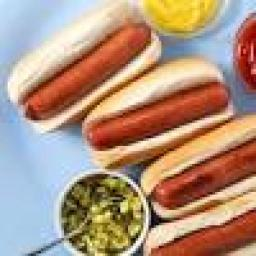hotdog: (6, 1, 162, 136), (79, 52, 236, 168), (139, 109, 256, 214), (148, 189, 256, 256)
